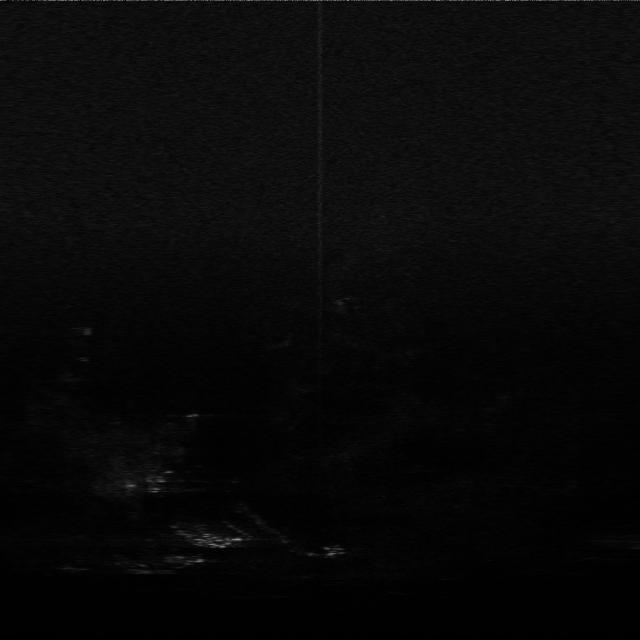rov: (192, 529, 246, 549)
